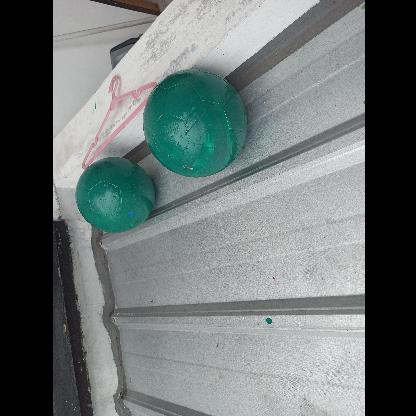green_ball: (140, 71, 248, 179), (72, 157, 152, 237)
